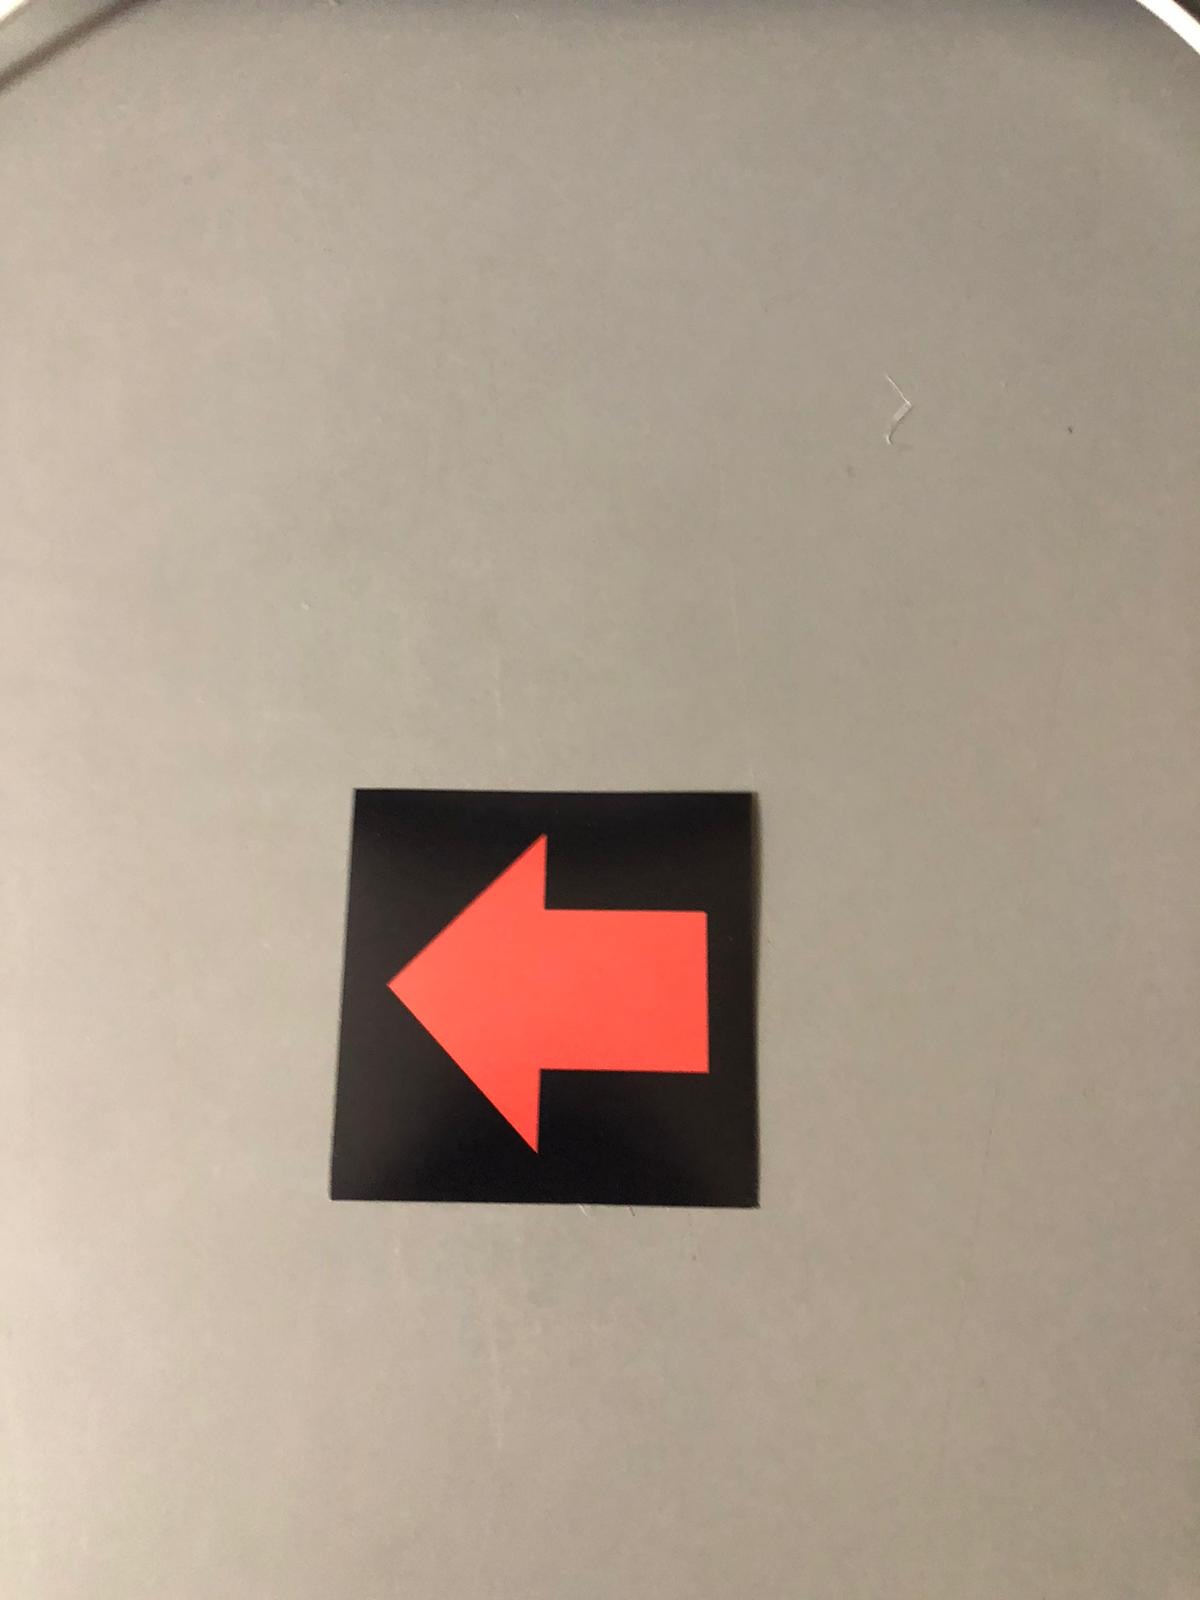Left Arrow: (362, 787, 737, 1208)
